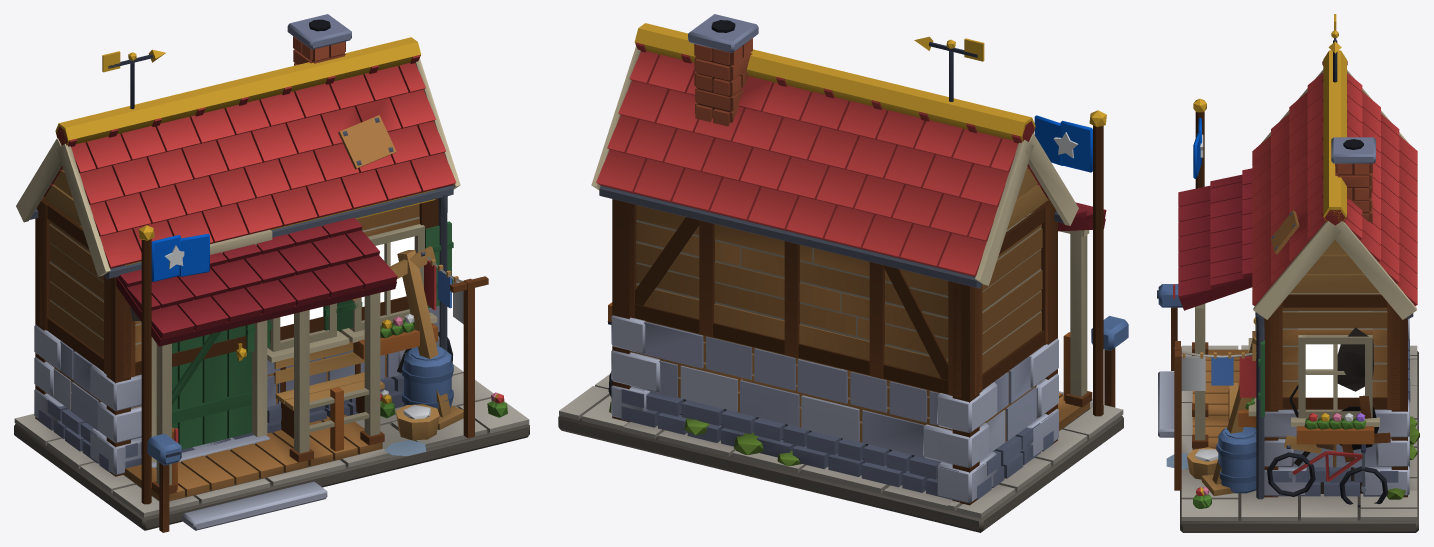
File: b_quartier.glb
The picture shows the model from 3 angles, left to right: view 1: azimuth 30°, elevation 25°; view 2: azimuth 150°, elevation 25°; view 3: azimuth 270°, elevation 25°; orthographic projection. The views are drawn at different scales.
Parts seen in each view (by area): view 1: body, lv4_haus, lv4_ausbau, lvmax3_haus, dmg2_bruch, sway_flag, sway_waesche, win_glow, dmg1_spuren, spin_wetterhahn; view 2: body, lv4_haus, lvmax3_haus, lv4_ausbau, sway_flag, spin_wetterhahn; view 3: body, lv4_haus, lvmax3_haus, lv4_ausbau, sway_waesche, dmg2_bruch, win_glow, dmg1_spuren, sway_flag.
Boxes of the visible parts, bbox=[...] form: body: bbox=[14, 14, 529, 532]; lv4_haus: bbox=[34, 199, 439, 474]; lv4_ausbau: bbox=[55, 37, 453, 504]; lvmax3_haus: bbox=[35, 196, 438, 476]; dmg2_bruch: bbox=[397, 250, 463, 429]; sway_flag: bbox=[151, 234, 209, 281]; sway_waesche: bbox=[424, 259, 463, 323]; win_glow: bbox=[280, 236, 414, 326]; dmg1_spuren: bbox=[130, 246, 435, 372]; spin_wetterhahn: bbox=[102, 49, 165, 72]; body: bbox=[558, 14, 1128, 532]; lv4_haus: bbox=[611, 200, 1058, 503]; lvmax3_haus: bbox=[612, 197, 1057, 505]; lv4_ausbau: bbox=[634, 23, 1106, 416]; sway_flag: bbox=[1034, 115, 1092, 172]; spin_wetterhahn: bbox=[914, 36, 984, 61]; body: bbox=[1157, 40, 1419, 532]; lv4_haus: bbox=[1264, 293, 1409, 495]; lvmax3_haus: bbox=[1264, 295, 1407, 497]; lv4_ausbau: bbox=[1193, 50, 1346, 493]; sway_waesche: bbox=[1181, 352, 1256, 397]; dmg2_bruch: bbox=[1201, 337, 1390, 496]; win_glow: bbox=[1305, 344, 1364, 397]; dmg1_spuren: bbox=[1251, 327, 1373, 466]; sway_flag: bbox=[1193, 117, 1203, 178].
Bounding box in the file's own units: 5.5 × 5.47 × 3.54.
